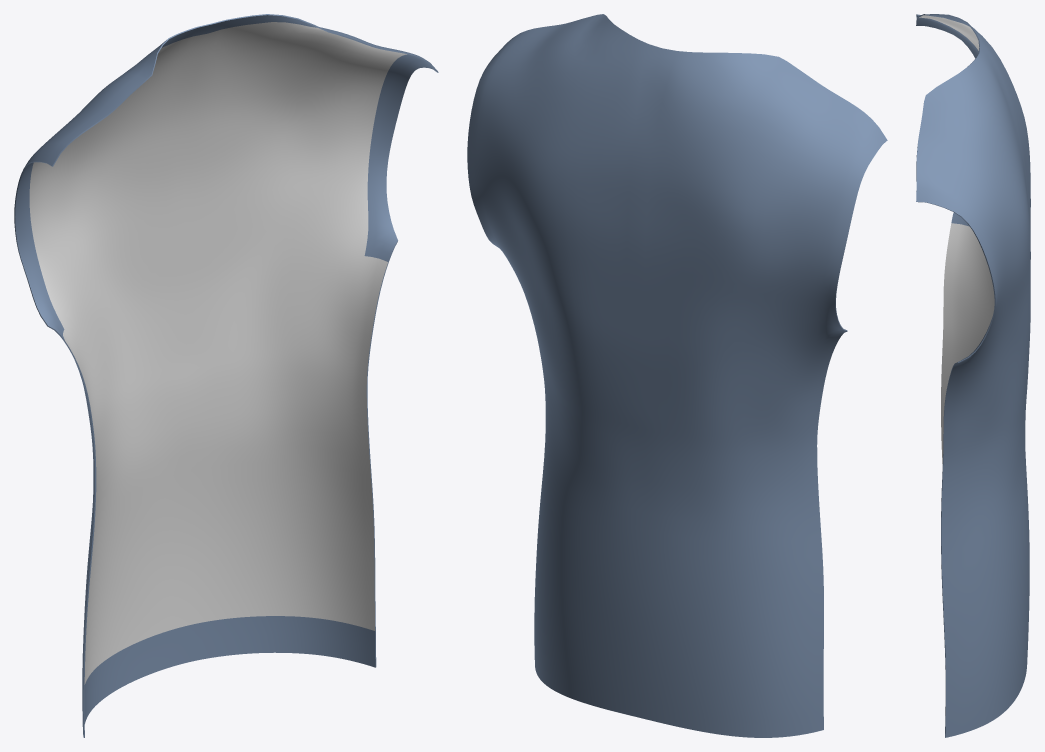
Rendered from SM_CarlosSA_Jacket_BackVent_DoubleVent.fbx.
3 views of the same model, side by side, from view 1: azimuth 30°, elevation 25°; view 2: azimuth 150°, elevation 25°; view 3: azimuth 270°, elevation 25° (orthographic). The views are drawn at different scales.
Visible parts, largest first — view 1: SM_CarlosSA_Jacket_BackVent_DoubleVent; view 2: SM_CarlosSA_Jacket_BackVent_DoubleVent; view 3: SM_CarlosSA_Jacket_BackVent_DoubleVent.
Part boxes in pixels (x1,y1,x2,y2): SM_CarlosSA_Jacket_BackVent_DoubleVent: (14, 14, 438, 737); SM_CarlosSA_Jacket_BackVent_DoubleVent: (467, 14, 887, 737); SM_CarlosSA_Jacket_BackVent_DoubleVent: (916, 14, 1030, 737).
Bounding box in the file's own units: 0.454 × 0.746 × 0.1238.
